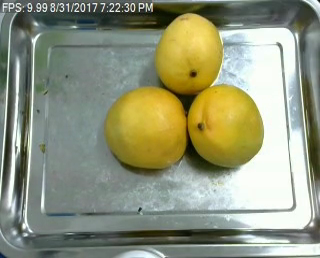Mango: (106, 88, 187, 169), (186, 86, 262, 166), (155, 13, 222, 93)
